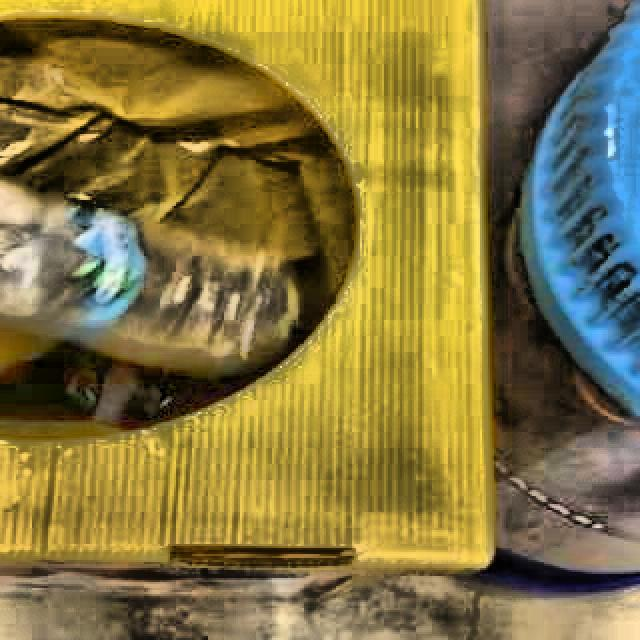plastic: (0, 184, 299, 375)
